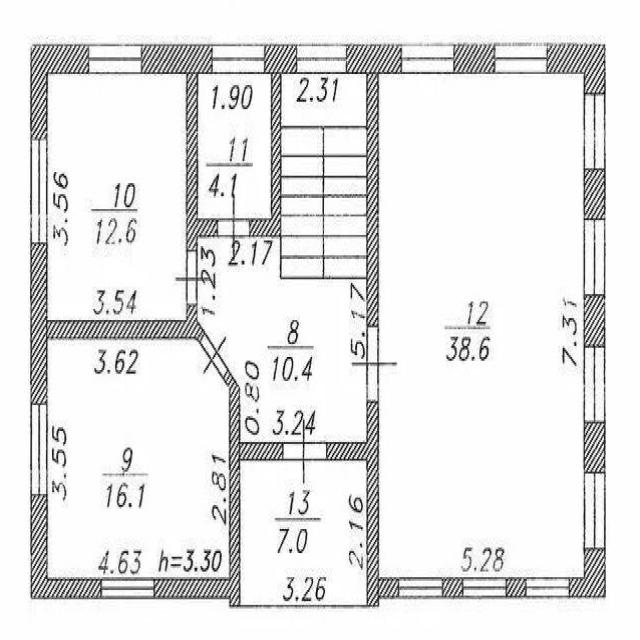Corridors: (198, 238, 366, 440), (240, 462, 366, 604)
Doors: (350, 327, 397, 401), (283, 417, 327, 485), (217, 193, 250, 257), (173, 250, 210, 303), (199, 331, 229, 381)
LBwalls: (30, 495, 101, 600), (31, 44, 89, 139), (548, 42, 607, 94), (367, 73, 379, 327), (30, 244, 48, 405), (366, 400, 379, 607), (141, 44, 212, 74), (570, 548, 606, 599), (347, 44, 402, 74), (153, 578, 231, 598), (454, 43, 495, 75), (584, 296, 605, 347), (584, 422, 605, 473), (584, 170, 606, 218), (264, 44, 296, 74), (443, 576, 463, 600), (507, 576, 526, 600), (380, 577, 399, 599)
Offices: (380, 75, 583, 576), (48, 339, 228, 576), (48, 75, 186, 318), (199, 76, 270, 217)
Stairs: (280, 73, 367, 279)
Walls: (47, 303, 206, 345), (186, 73, 218, 250), (250, 75, 282, 238), (223, 369, 240, 608), (239, 442, 283, 461), (326, 442, 367, 461)
Windows: (30, 139, 47, 244), (584, 93, 606, 170), (584, 218, 606, 295), (30, 403, 48, 496), (402, 43, 454, 74), (495, 42, 547, 73), (89, 45, 142, 75), (212, 45, 265, 75), (584, 347, 605, 422), (584, 474, 605, 548), (296, 45, 347, 74), (101, 577, 154, 600), (399, 577, 443, 599), (463, 576, 506, 597), (526, 578, 570, 598)
